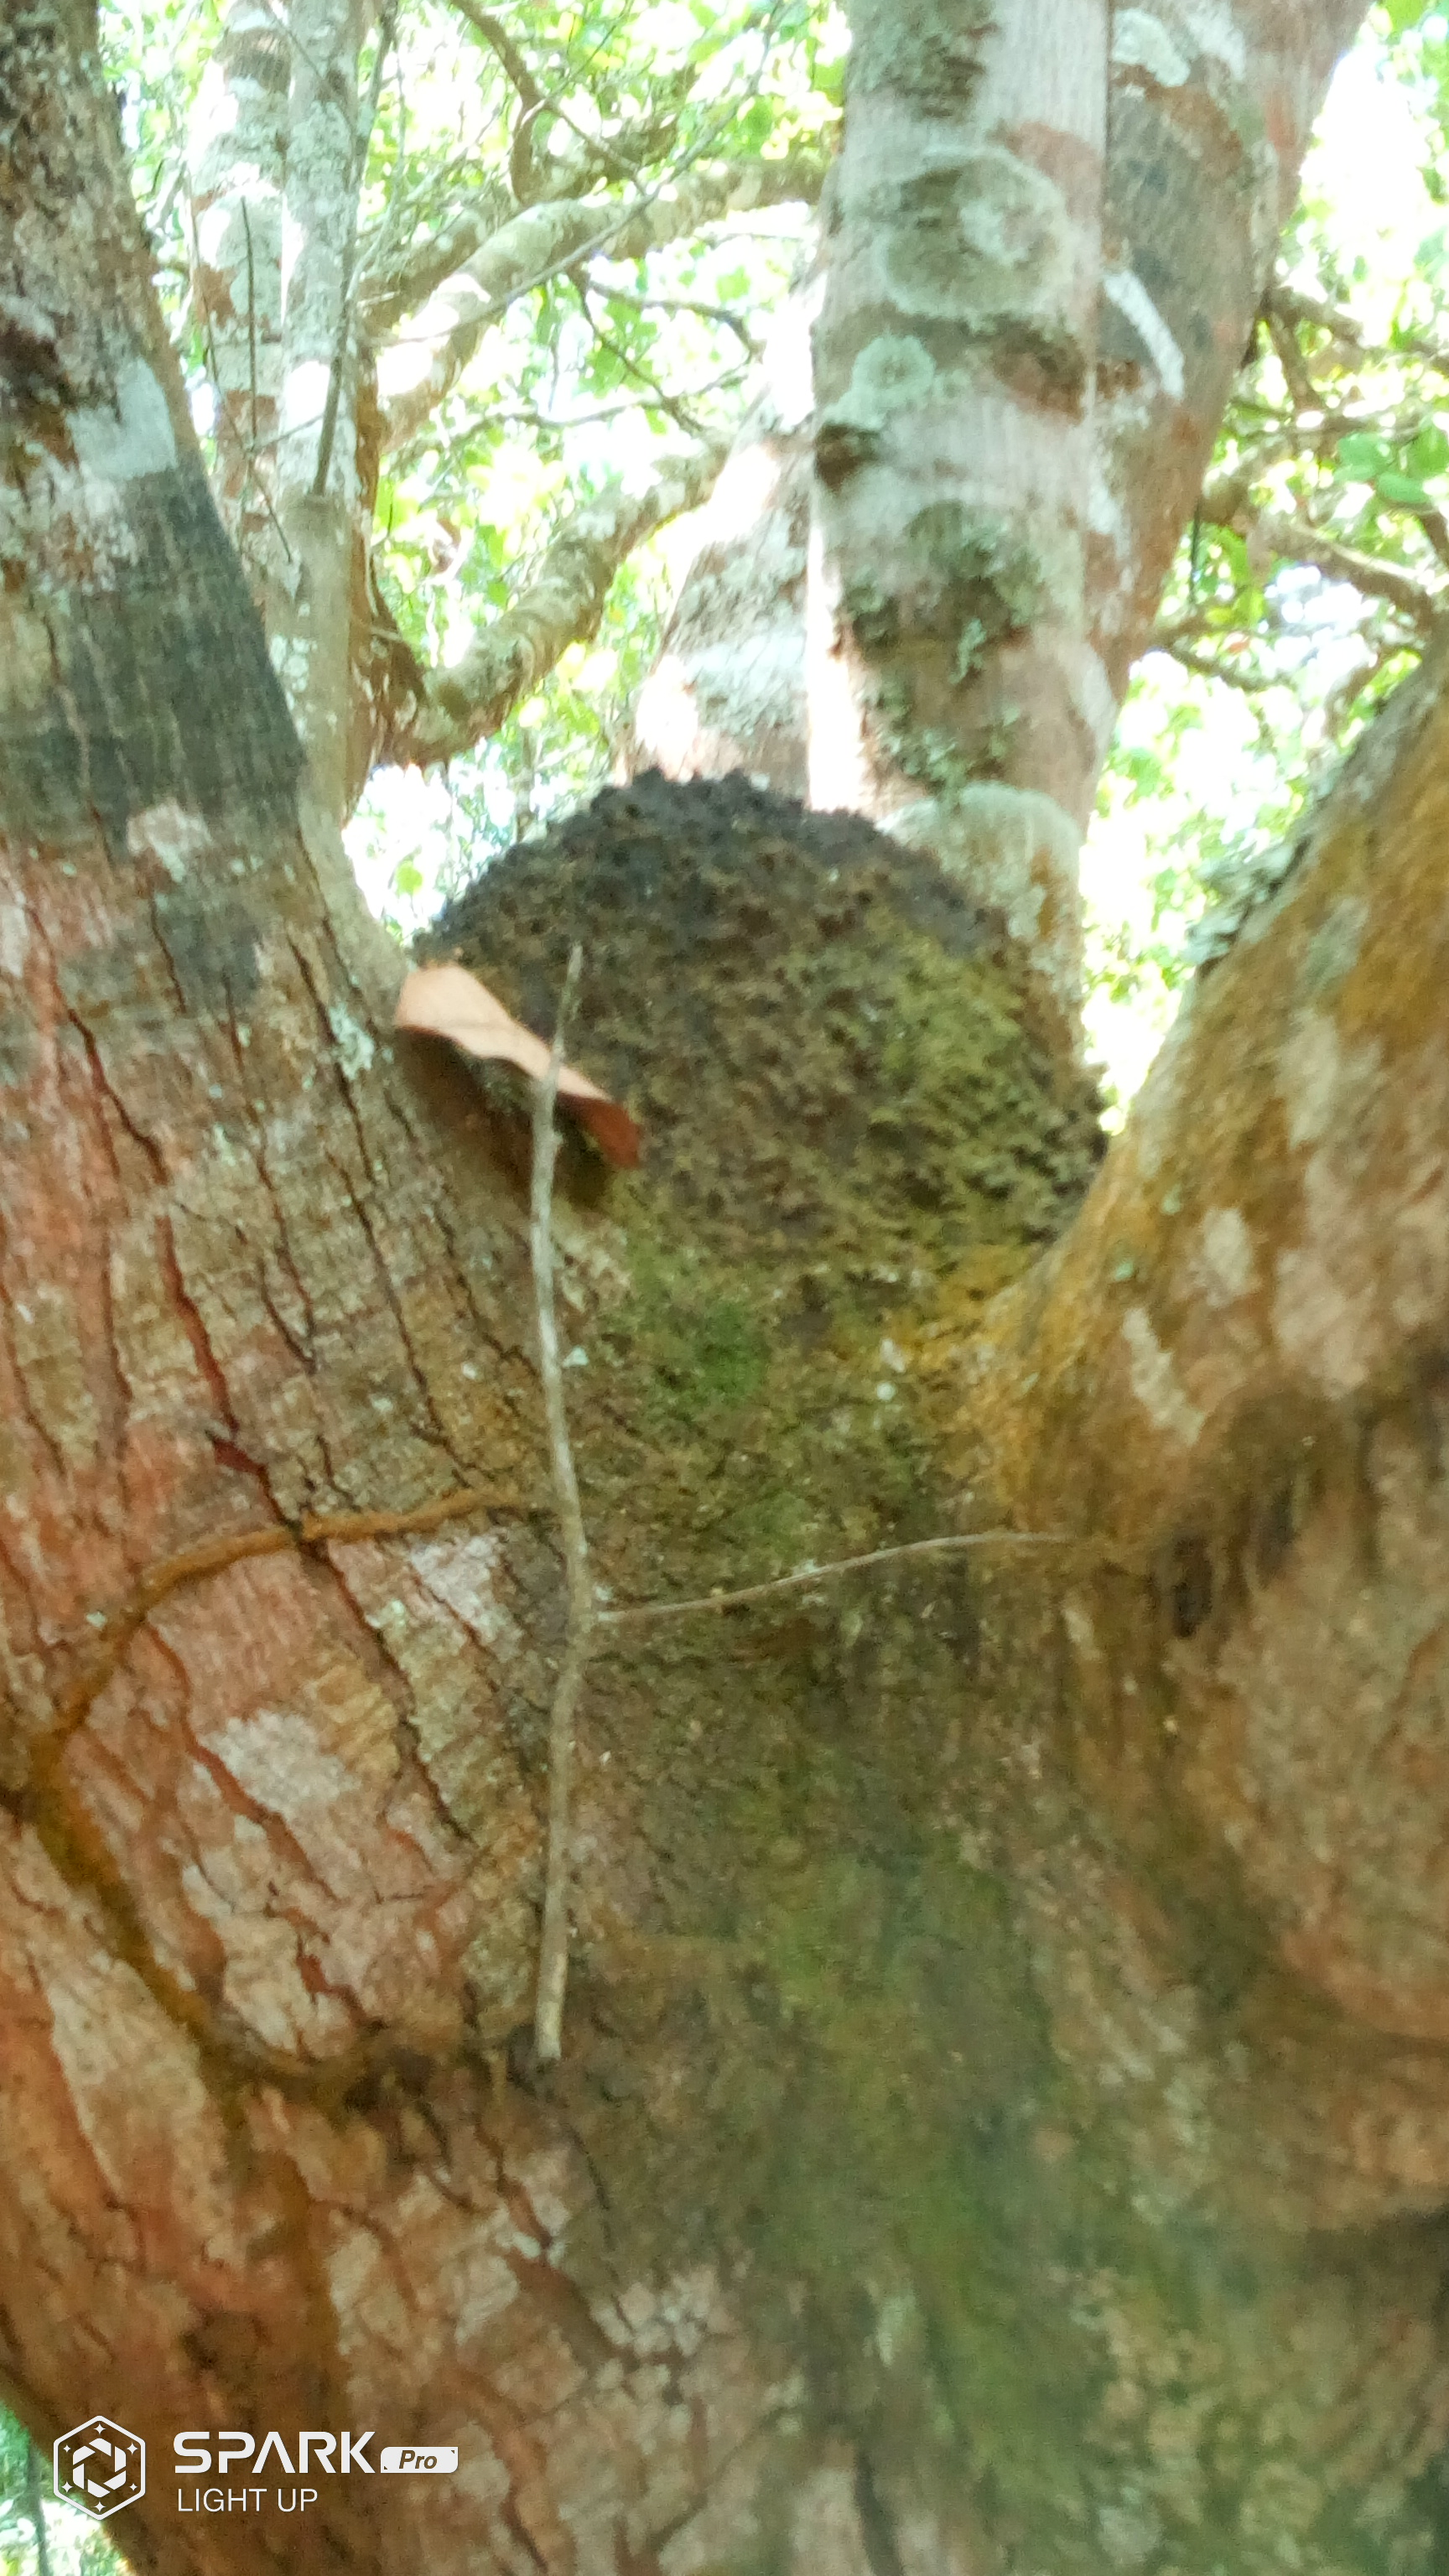Termites: (462, 761, 1136, 2461)
